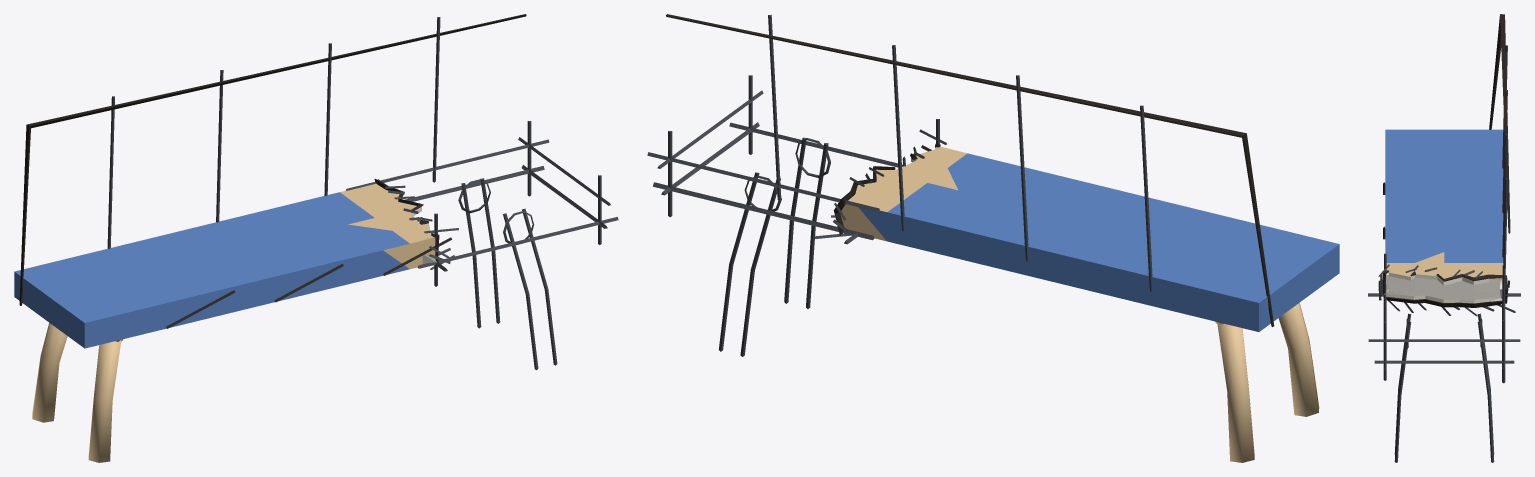
Rendered from Bench_Puppet.fbx.
3 renders of one model, left to right at view 1: azimuth 30°, elevation 25°; view 2: azimuth 150°, elevation 25°; view 3: azimuth 270°, elevation 25°, orthographic. The views are drawn at different scales.
Parts seen in each view (by area): view 1: Seat, Lines, Legs; view 2: Seat, Lines, Legs; view 3: Seat, Lines.
Part boxes in pixels (left/top/right/bottom): Seat: left=14, top=183, right=439, bottom=348; Lines: left=19, top=14, right=618, bottom=370; Legs: left=32, top=323, right=122, bottom=462; Seat: left=841, top=146, right=1339, bottom=331; Lines: left=647, top=14, right=1274, bottom=356; Legs: left=1215, top=303, right=1319, bottom=462; Seat: left=1384, top=129, right=1503, bottom=303; Lines: left=1368, top=14, right=1520, bottom=462.
Bounding box in the file's own units: 1.98 × 1.1 × 0.5806.
